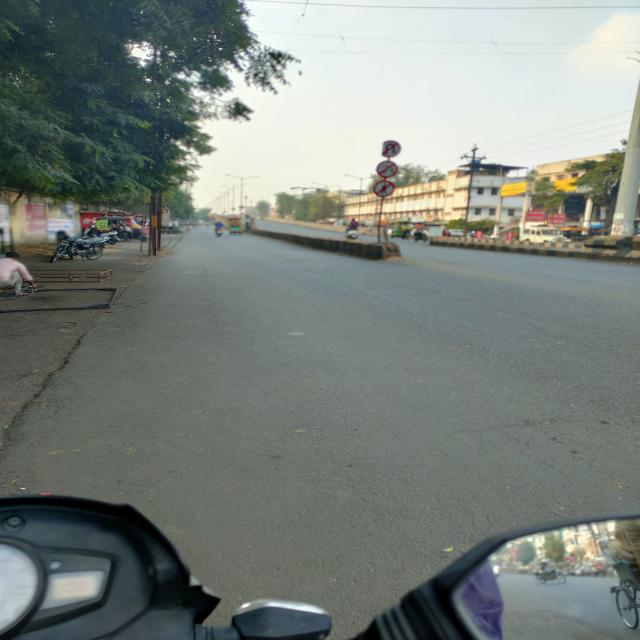HANDCART_PROHIBITED: (376, 160, 398, 178)
